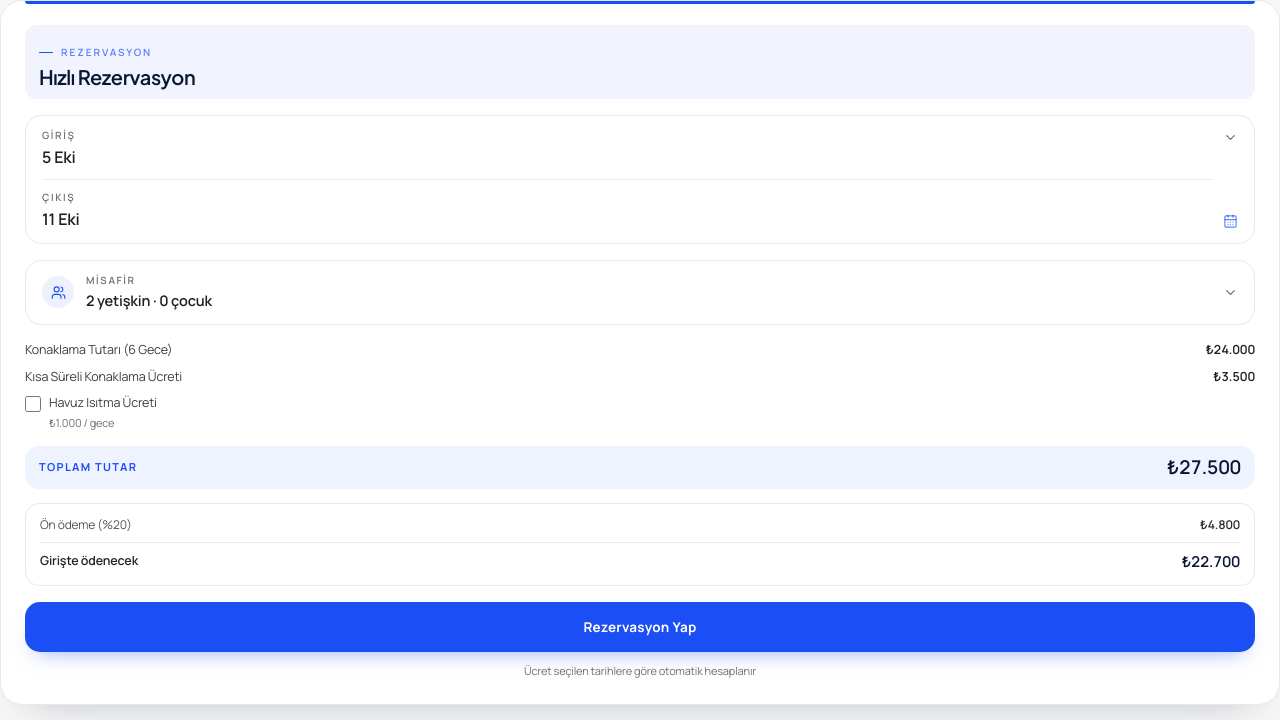
Scenario: BookingSidebar — havuz ısıtma UI (5. adım) › 7) farklı gece sayısı (6 gece) → UI yeni toplamı engine'den gösterir (kendi gece sayımı YOK)
Step 1. Click the checkbox labelled "Havuz Isıtma Ücreti" → (33, 404), box [25, 396, 41, 412]
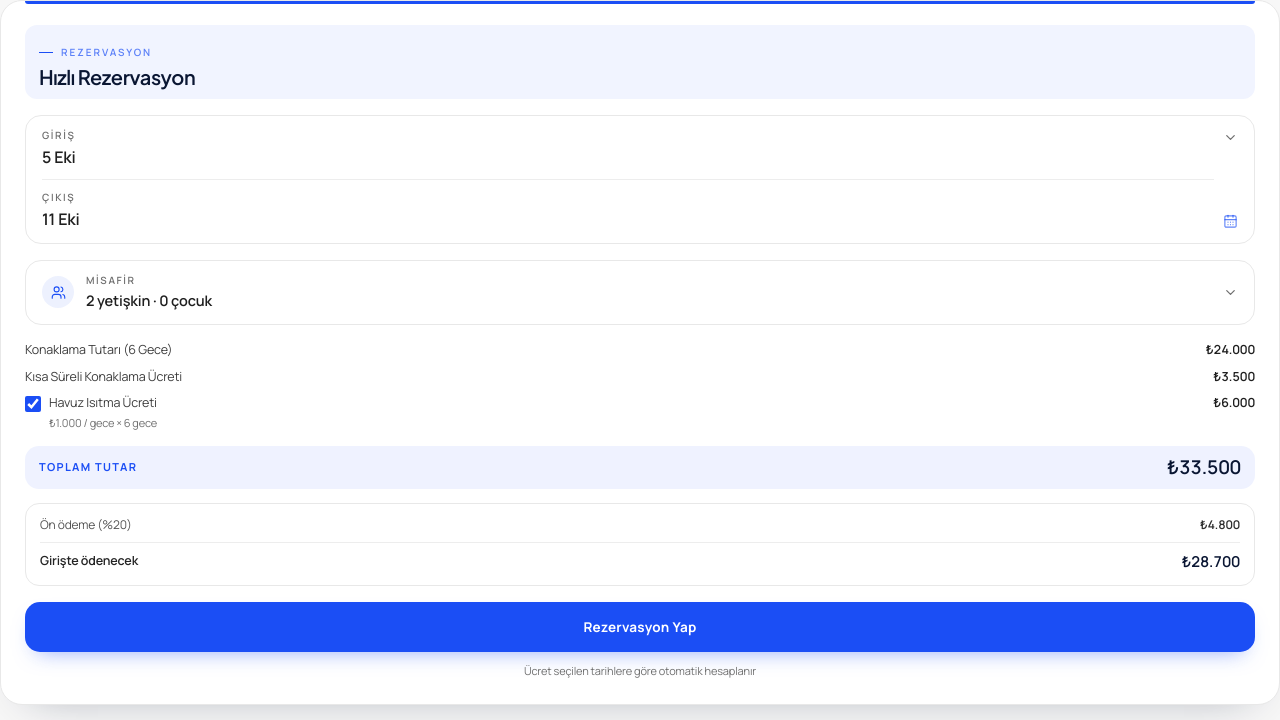
Expected: the text "₺6.000" is shown, [1213, 394, 1255, 413]
Expected: the text "₺1.000 / gece × 6 gece" is shown, [49, 415, 157, 430]
